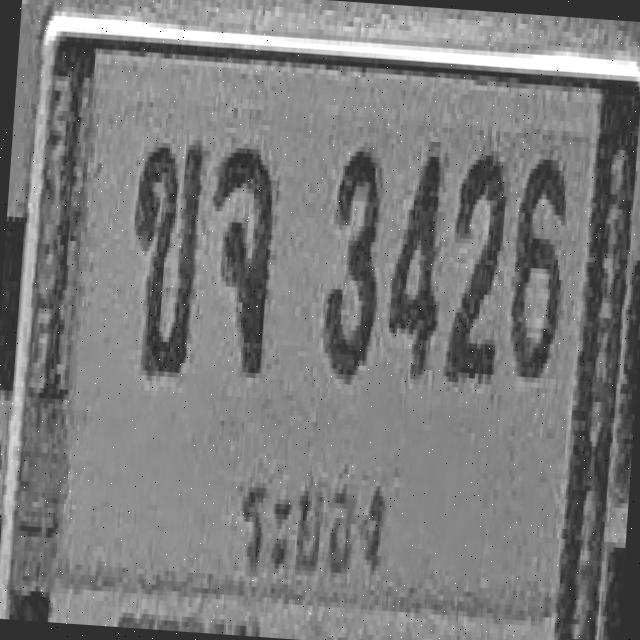11KhorKhai: (124, 136, 203, 373)
17ChorChan: (203, 142, 277, 374)
2: (444, 148, 508, 380)
3: (319, 142, 386, 378)
4: (385, 142, 448, 378)
6: (507, 152, 569, 378)
Rayong: (231, 458, 397, 600)
